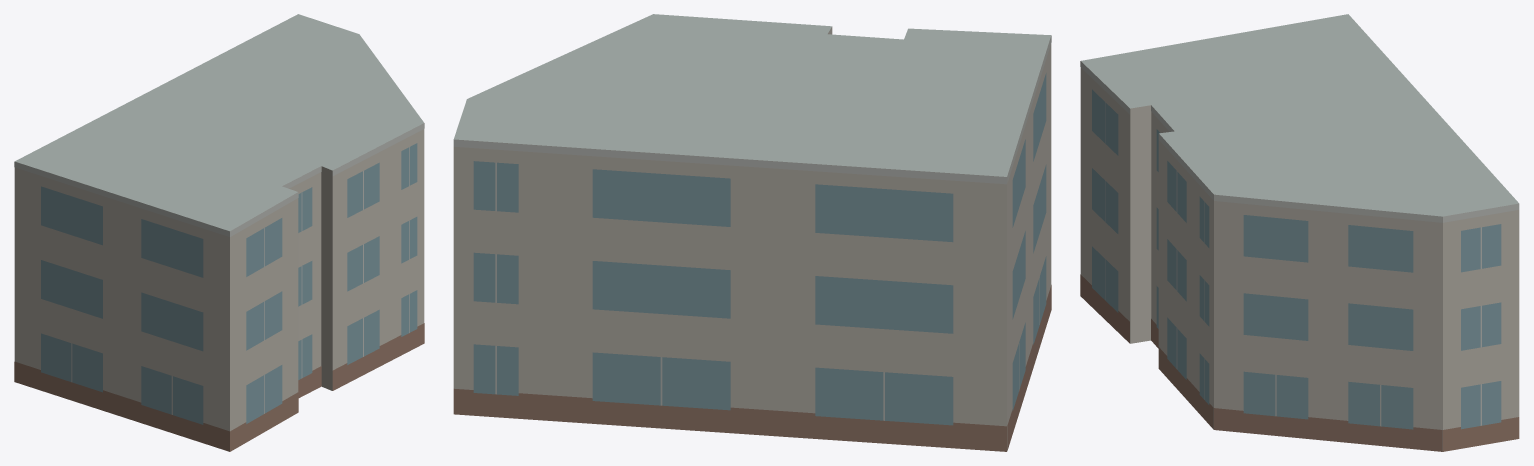
The model's file is survey-upis-32750418.glb.
The picture shows the model from 3 angles, left to right: view 1: azimuth 30°, elevation 25°; view 2: azimuth 150°, elevation 25°; view 3: azimuth 270°, elevation 25°; orthographic projection. The views are drawn at different scales.
Parts seen in each view (by area): view 1: survey-upis-32750418.tmp; view 2: survey-upis-32750418.tmp; view 3: survey-upis-32750418.tmp.
Boxes of the visible parts, x1,y1,x2,y2 form: survey-upis-32750418.tmp: (14, 14, 424, 451); survey-upis-32750418.tmp: (453, 14, 1051, 451); survey-upis-32750418.tmp: (1080, 14, 1519, 451).
Bounding box in the file's own units: 16.9 × 9.15 × 15.47.
